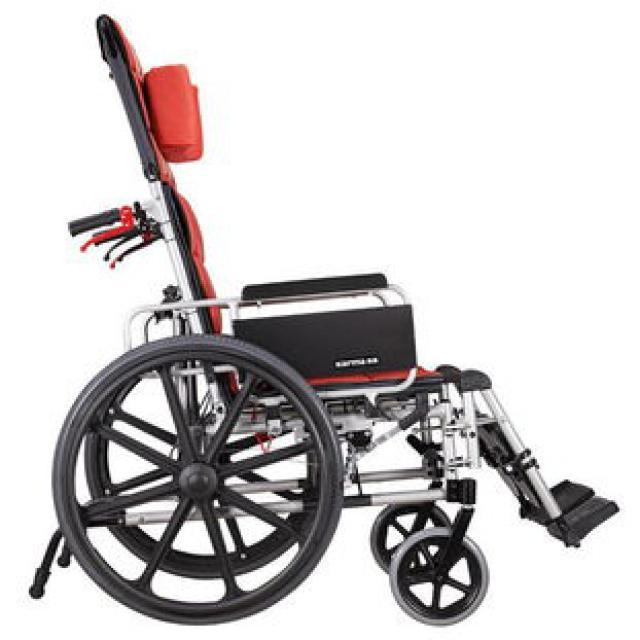wheelchair: (24, 10, 622, 638)
